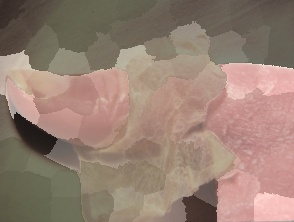SJS-TEN: (64, 9, 285, 222)
